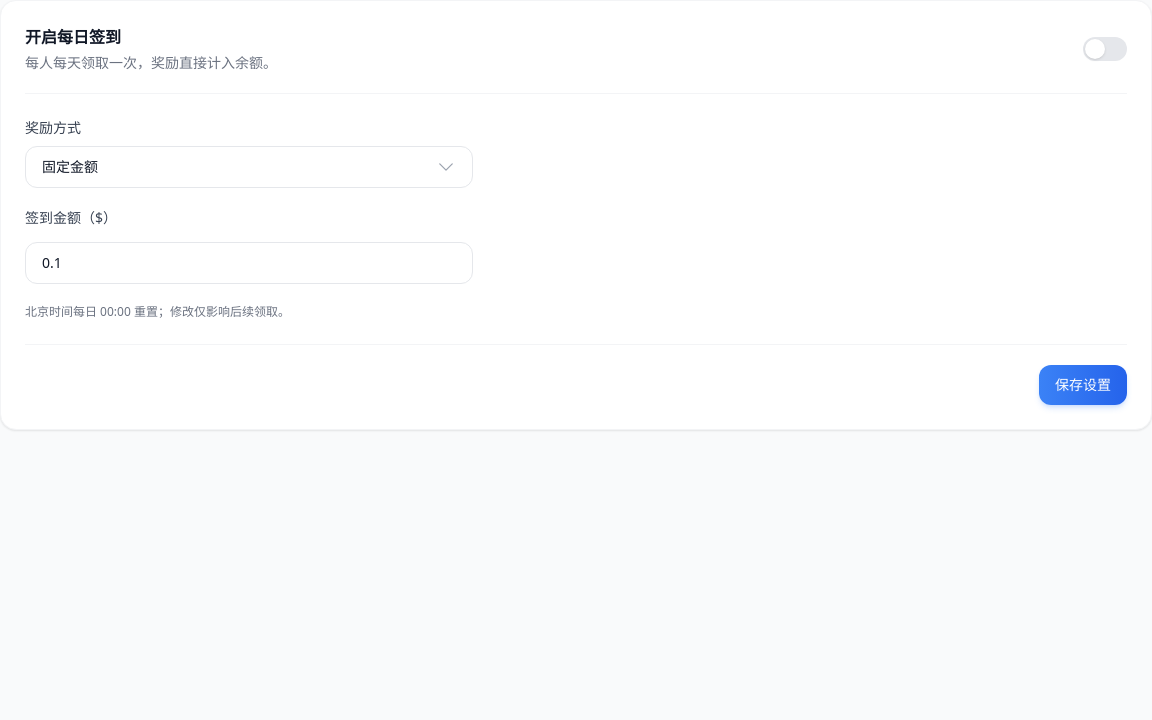
Test: 签到管理表单 › 金额保持十进制字符串，不被数字输入框转换为浮点数
This screenshot has width=1152, height=720.
Step 1. Replace the text in the number field with id "checkin-fixed" with "0.00000001" → (249, 263), box [25,242,473,284]
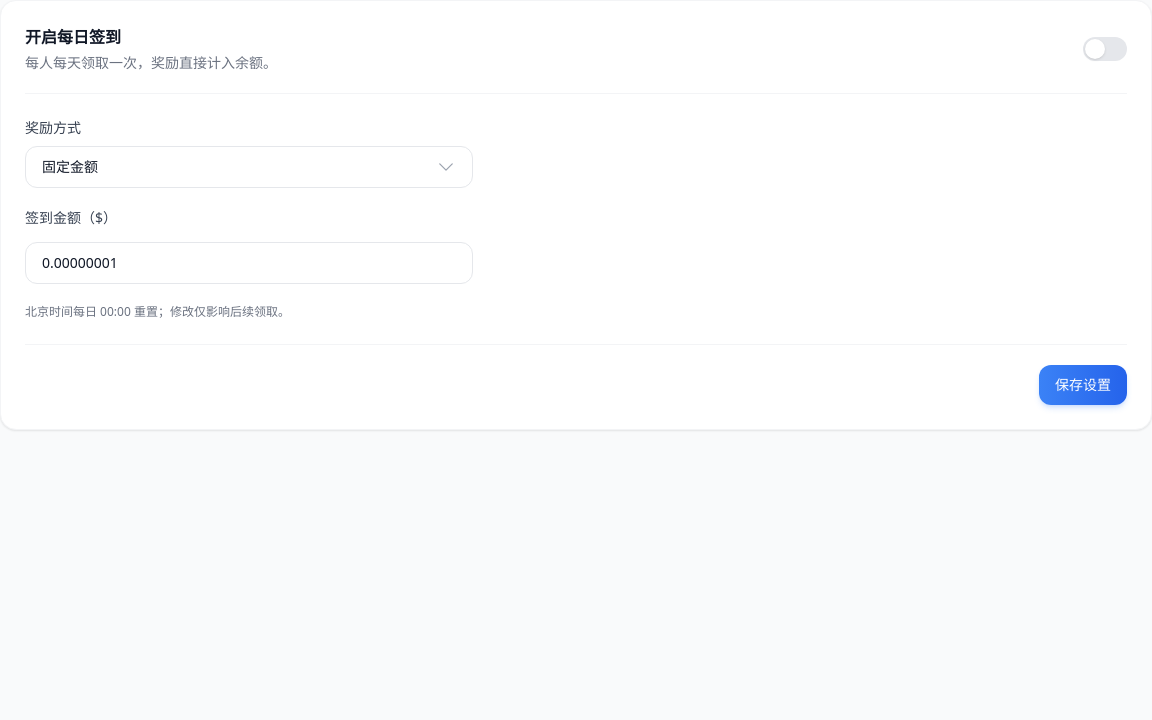
Step 2. Submit the form, box [0,0,1151,430]
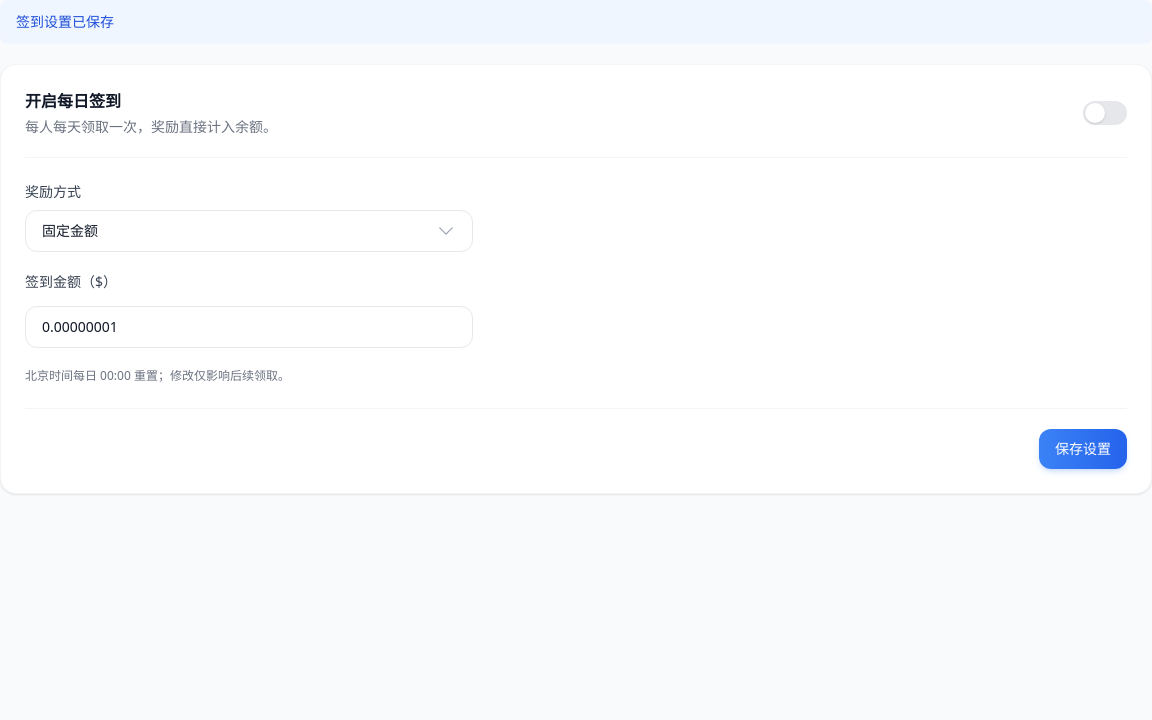
expect the text "签到设置已保存" is shown: met, box [0,0,1151,44]
